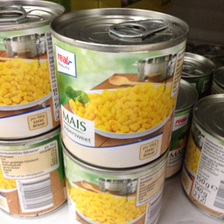corn: (49, 7, 190, 168), (1, 1, 64, 138), (63, 147, 164, 224), (1, 127, 67, 215)
